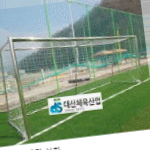goals: (1, 35, 144, 139)
